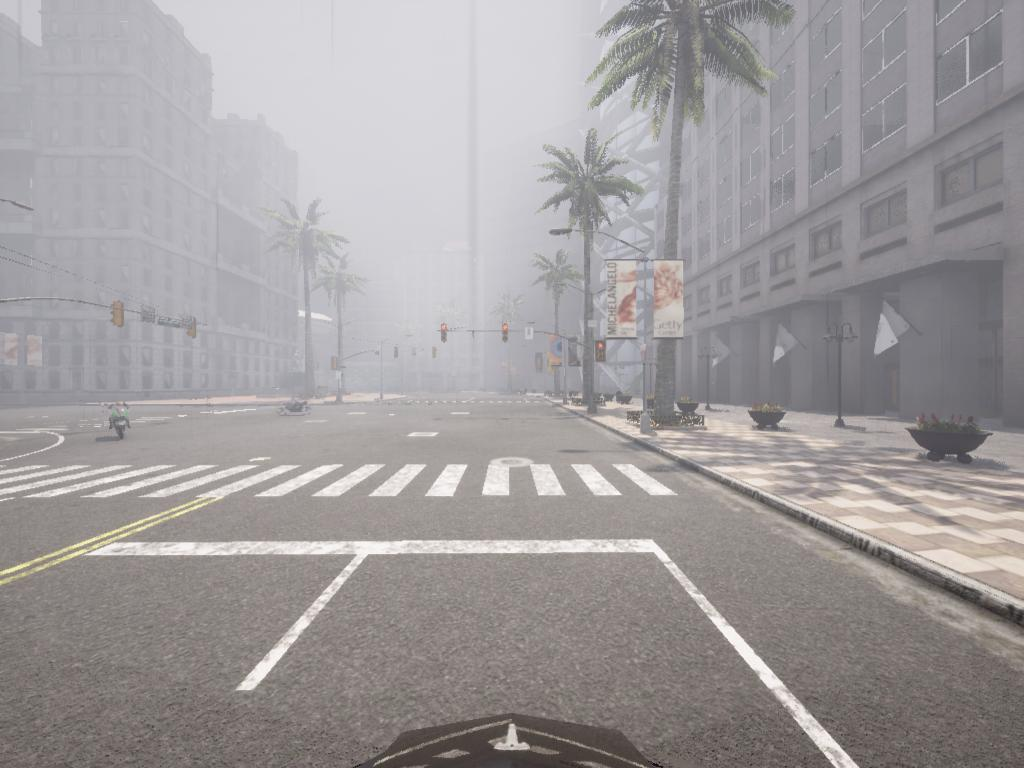traffic_light: (110, 303, 123, 330), (187, 316, 198, 342), (597, 345, 608, 364), (333, 357, 341, 375), (502, 325, 510, 341), (442, 325, 449, 340), (395, 345, 401, 362), (433, 346, 438, 361)
